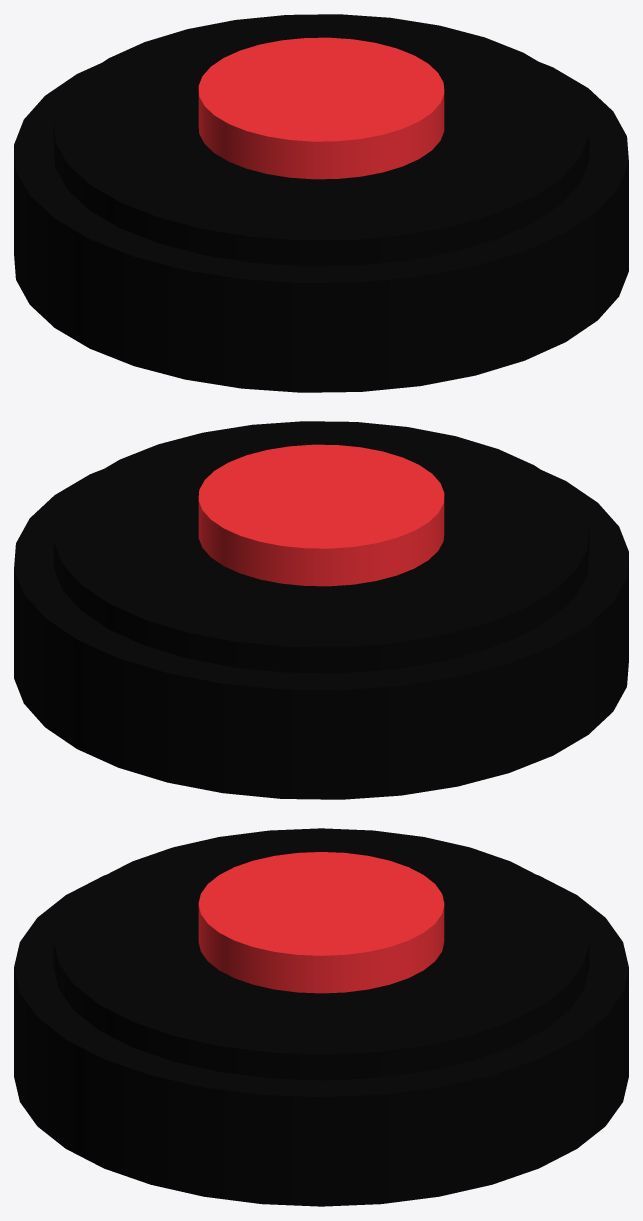
Rendered from mine.fbx.
3 views of the same model, one above another, from view 1: azimuth 30°, elevation 25°; view 2: azimuth 150°, elevation 25°; view 3: azimuth 270°, elevation 25° (orthographic).
Parts seen in each view (by area): view 1: Cylinder, Cylinder.001; view 2: Cylinder, Cylinder.001; view 3: Cylinder, Cylinder.001.
Part boxes in pixels (left/top/right/bottom): Cylinder: left=14, top=14, right=628, bottom=392; Cylinder.001: left=198, top=37, right=444, bottom=179; Cylinder: left=14, top=421, right=628, bottom=799; Cylinder.001: left=198, top=444, right=444, bottom=586; Cylinder: left=14, top=828, right=628, bottom=1206; Cylinder.001: left=198, top=852, right=444, bottom=993.
Bounding box in the file's own units: 200 × 62.01 × 200.
Materials: 1 (1 with a texture image).
